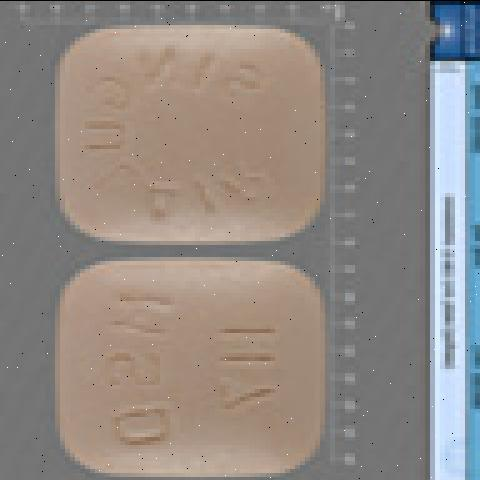Pill: (31, 15, 338, 255), (28, 254, 333, 480)
